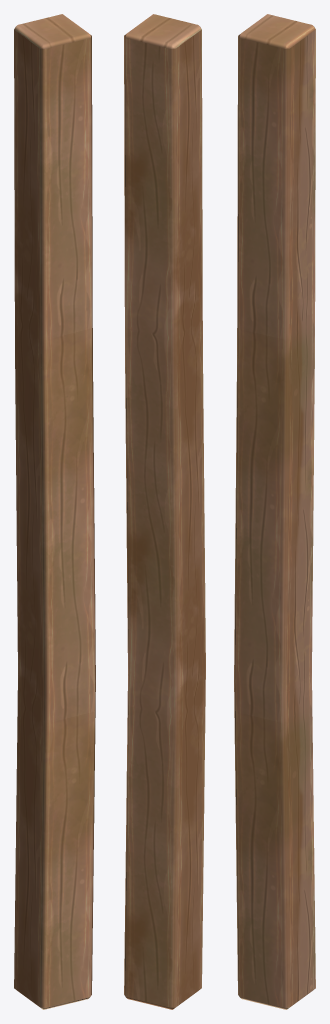
File: SM_Column_01.gltf
3 views of the same model, side by side, from view 1: azimuth 30°, elevation 25°; view 2: azimuth 150°, elevation 25°; view 3: azimuth 330°, elevation 25° (orthographic).
Parts seen in each view (by area): view 1: SM_Column_01_LOD0; view 2: SM_Column_01_LOD0; view 3: SM_Column_01_LOD0.
Boxes of the visible parts, x1=… form: SM_Column_01_LOD0: x1=14, y1=14, x2=95, y2=1009; SM_Column_01_LOD0: x1=124, y1=14, x2=205, y2=1009; SM_Column_01_LOD0: x1=234, y1=14, x2=315, y2=1009.
Size of what is drawn, in the model's own units: 0.3 by 5.33 by 0.3402.
Materials: 1 (1 with a texture image).
